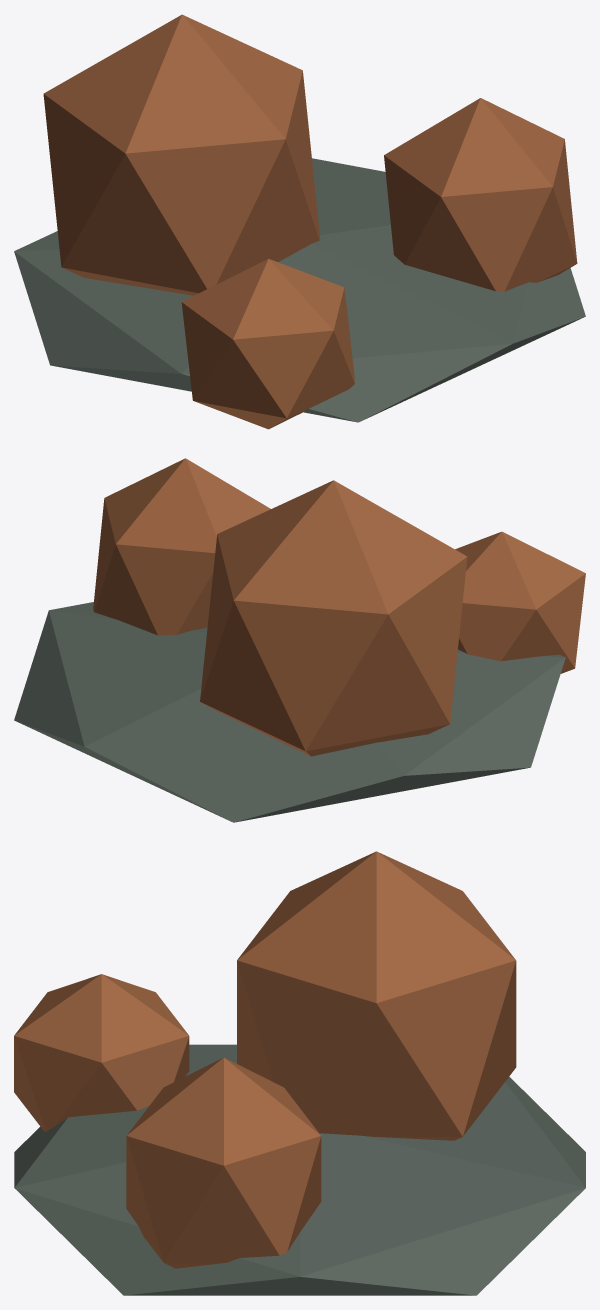
The model's file is ore-iron-lod0.2deda2da1c58.glb.
The picture shows the model from 3 angles, top to bottom: view 1: azimuth 30°, elevation 25°; view 2: azimuth 150°, elevation 25°; view 3: azimuth 270°, elevation 25°; orthographic projection. The views are drawn at different scales.
Visible parts, largest first — view 1: body; view 2: body; view 3: body.
Part boxes in pixels (<box>): body: <box>14,14,585,429</box>; body: <box>14,458,585,822</box>; body: <box>14,851,585,1295</box>.
Bounding box in the file's own units: 0.796 × 0.47 × 0.7491.
